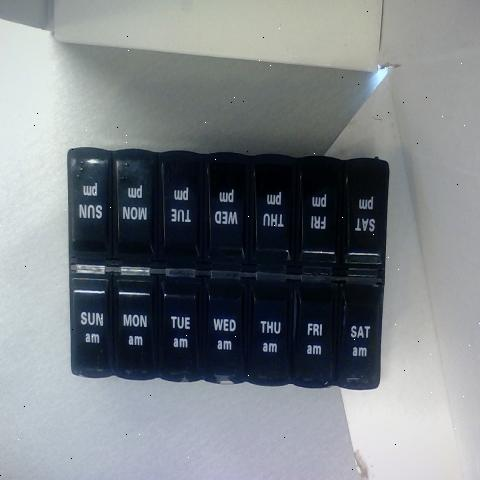FRI-am: (295, 290, 331, 384)
FRI-pm: (303, 163, 341, 271)
MON-am: (106, 277, 150, 381)
MON-pm: (116, 153, 154, 257)
SAT-am: (340, 294, 378, 390)
SAT-pm: (350, 162, 385, 266)
SUN-am: (69, 278, 104, 375)
SUN-pm: (73, 160, 112, 252)
THU-am: (245, 286, 286, 382)
THU-pm: (256, 153, 297, 260)
TUE-am: (152, 277, 193, 381)
TUE-pm: (162, 158, 206, 269)
WED-am: (207, 279, 249, 383)
WED-pm: (204, 156, 246, 262)
